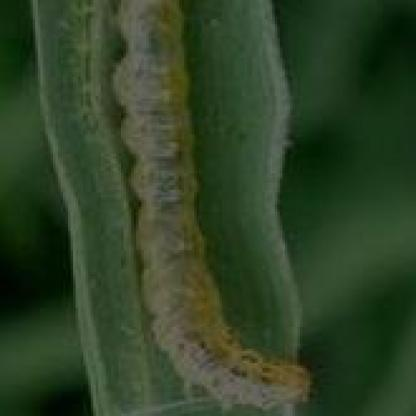leaf-folder: (72, 4, 346, 411)
